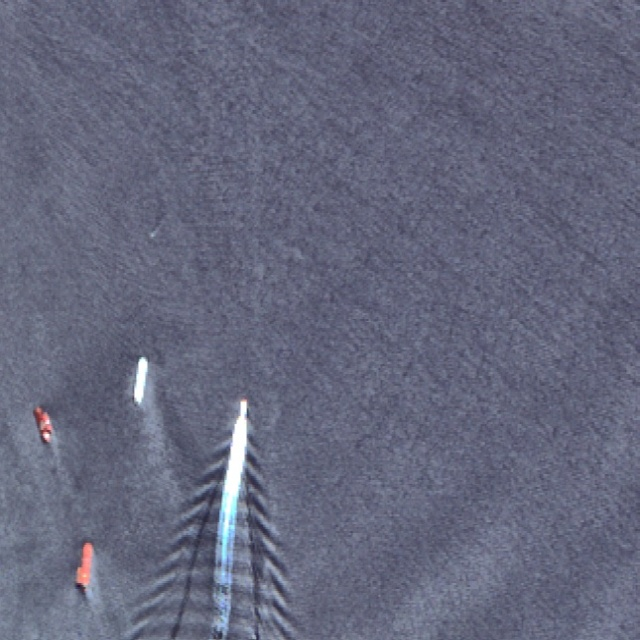wake: (146, 385, 308, 633)
